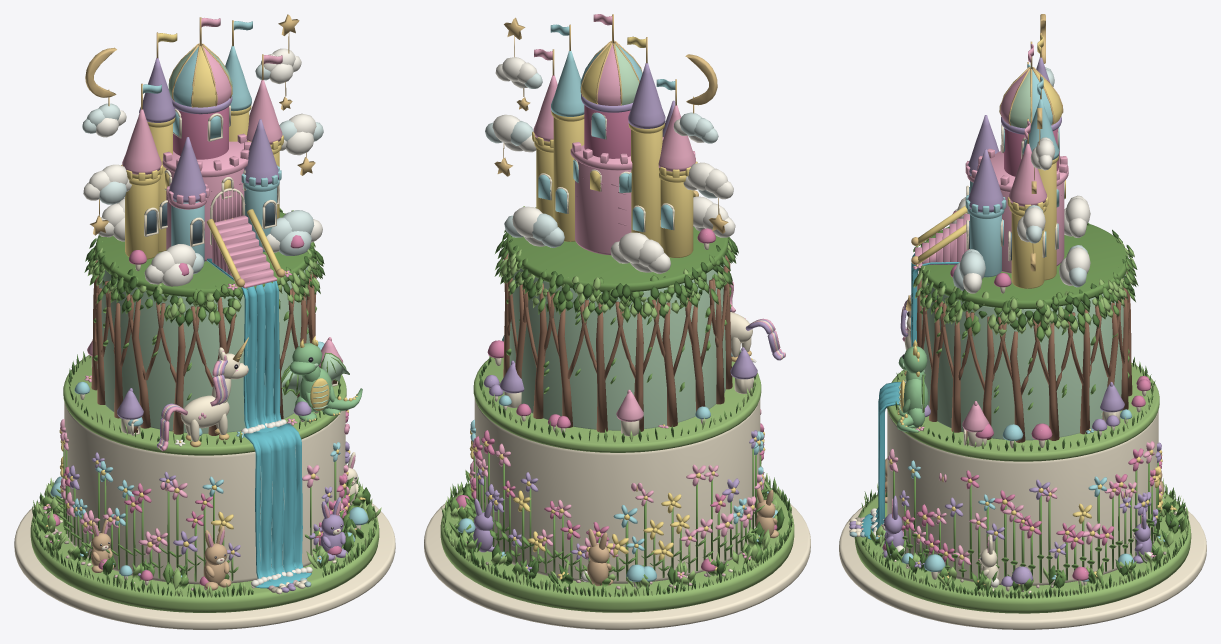
File: Fantasy-Castle-Cake-Optimized.glb
3 views of the same model, side by side, from view 1: azimuth 30°, elevation 25°; view 2: azimuth 150°, elevation 25°; view 3: azimuth 270°, elevation 25° (orthographic). The views are drawn at different scales.
Visible parts, largest first — view 1: Cake structure | Ivory, Cake structure | Leaf light, Waterfalls | Turquoise, Cake structure | Mint, Forest trunks | Trunk, Clouds | Cloud, Castle masonry | Yellow, Castle roofs | Lavender, Flower stems | Leaf, Cake structure | Leaf, Castle roofs | Blush, Castle masonry | Blush (+37 smaller); view 2: Cake structure | Ivory, Cake structure | Leaf light, Cake structure | Mint, Forest trunks | Trunk, Castle masonry | Yellow, Clouds | Cloud, Cake structure | Leaf, Flower stems | Leaf, Castle masonry | Blush, Foliage | Leaf, Castle roofs | Blush, Foliage | Leaf dark (+30 smaller); view 3: Cake structure | Ivory, Cake structure | Leaf light, Cake structure | Mint, Forest trunks | Trunk, Cake structure | Leaf, Flower stems | Leaf, Castle masonry | Yellow, Clouds | Cloud, Foliage | Leaf light, Foliage | Leaf, Flowers | Pink, Foliage | Leaf dark (+31 smaller).
Boxes of the visible parts, x1,y1,x2,y2 form: Cake structure | Ivory: (14,402,395,629); Cake structure | Leaf light: (30,355,379,612); Waterfalls | Turquoise: (206,258,311,588); Cake structure | Mint: (97,259,311,433); Forest trunks | Trunk: (91,260,316,435); Clouds | Cloud: (83,48,322,286); Castle masonry | Yellow: (121,105,283,259); Castle roofs | Lavender: (139,58,278,202); Flower stems | Leaf: (55,443,354,581); Cake structure | Leaf: (95,211,314,296); Castle roofs | Blush: (122,46,282,174); Castle masonry | Blush: (162,133,251,261); Cake structure | Ivory: (424,398,810,629); Cake structure | Leaf light: (440,357,794,612); Cake structure | Mint: (508,253,725,430); Forest trunks | Trunk: (503,251,732,432); Castle masonry | Yellow: (532,110,697,257); Clouds | Cloud: (492,57,735,273); Cake structure | Leaf: (506,207,728,292); Flower stems | Leaf: (465,448,769,580); Castle masonry | Blush: (570,137,695,255); Foliage | Leaf: (495,230,736,393); Castle roofs | Blush: (533,44,695,171); Foliage | Leaf dark: (494,232,738,318); Cake structure | Ivory: (839,410,1206,629); Cake structure | Leaf light: (854,362,1191,613); Cake structure | Mint: (921,272,1126,440); Forest trunks | Trunk: (916,265,1132,442); Cake structure | Leaf: (919,224,1127,309); Flower stems | Leaf: (893,462,1162,582); Castle masonry | Yellow: (1007,156,1058,288); Clouds | Cloud: (951,137,1090,293); Foliage | Leaf light: (914,238,1135,338); Foliage | Leaf: (913,222,1138,413); Flowers | Pink: (901,448,1161,562); Foliage | Leaf dark: (913,229,1136,335).
Bounding box in the file's own units: 0.328 × 0.503 × 0.328.
